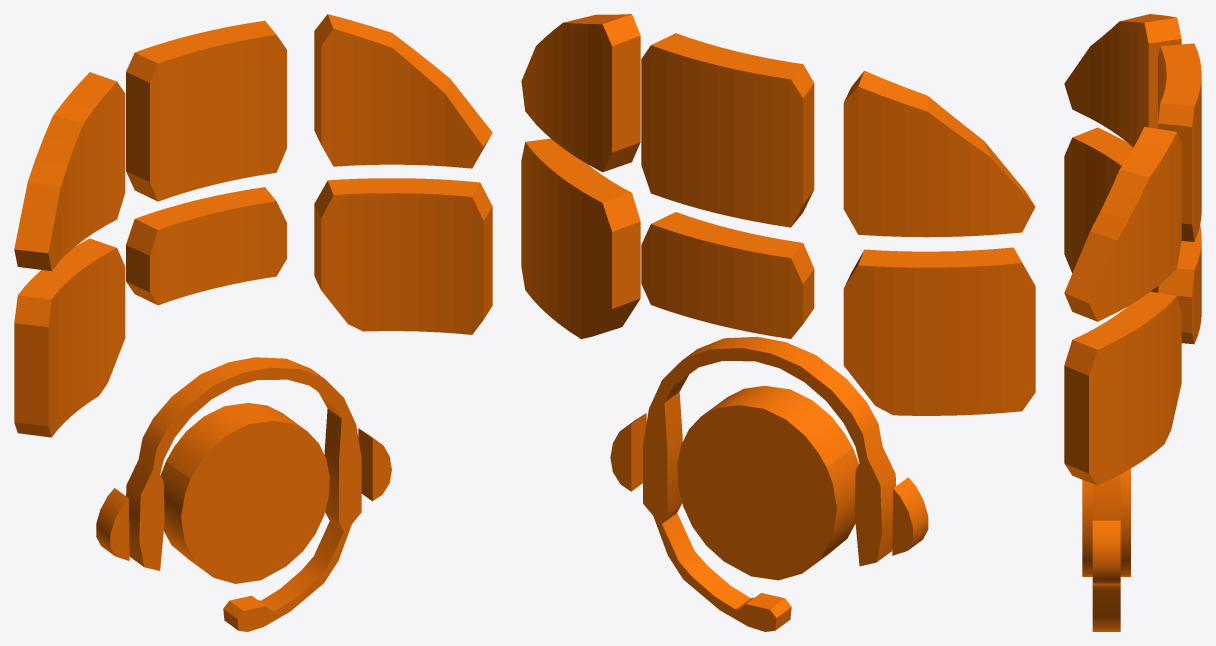
Rendered from Dispatch_I_01.fbx.
3 views of the same model, side by side, from view 1: azimuth 30°, elevation 25°; view 2: azimuth 150°, elevation 25°; view 3: azimuth 270°, elevation 25° (orthographic). The views are drawn at different scales.
Visible parts, largest first — view 1: Dispatch_I_01; view 2: Dispatch_I_01; view 3: Dispatch_I_01.
Boxes of the visible parts, x1,y1,x2,y2 form: Dispatch_I_01: (14,14,492,631); Dispatch_I_01: (521,14,1035,631); Dispatch_I_01: (1064,14,1201,631).
Size of the model in its own units: 115 by 128 by 29.09.
